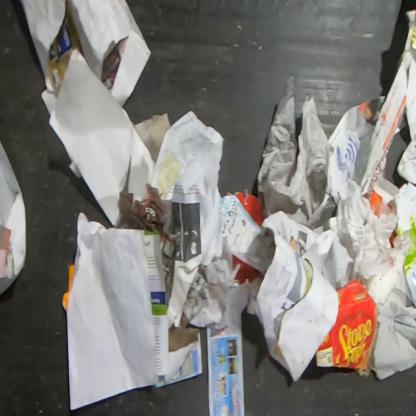cardboard: (315, 279, 376, 372), (234, 187, 263, 226), (232, 254, 262, 283)
